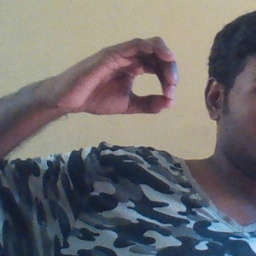O: (60, 31, 183, 119)
